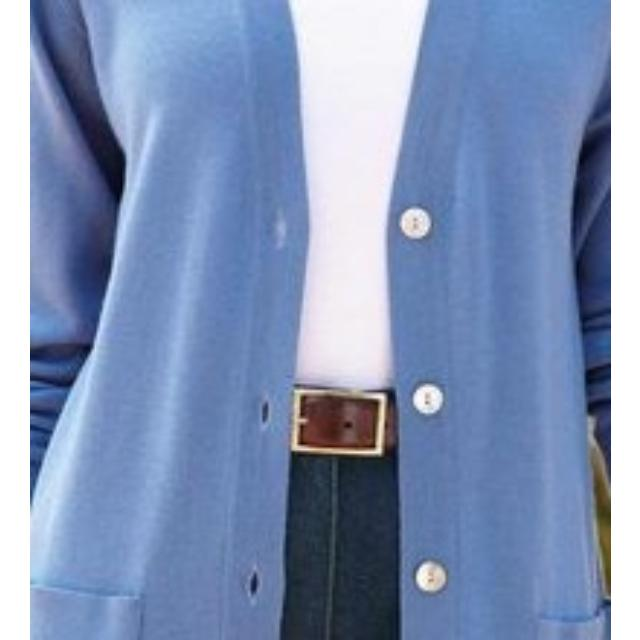wool: (29, 0, 610, 640)
